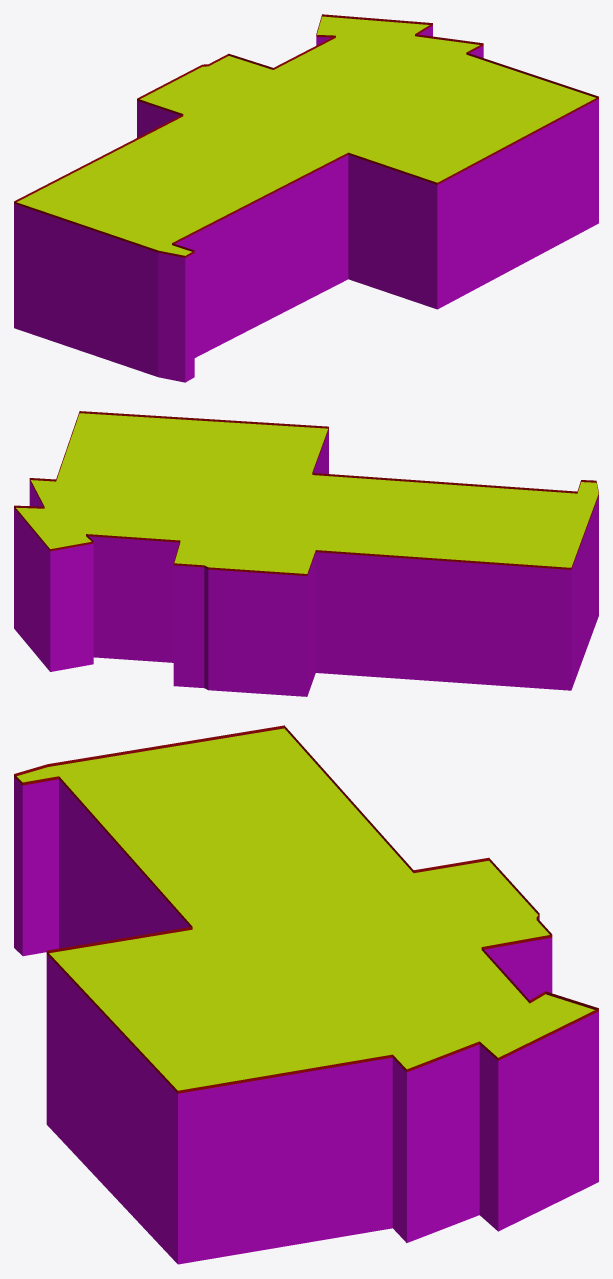
Rendered from svc_102.glb.
3 views of the same model, one above another, from view 1: azimuth 30°, elevation 25°; view 2: azimuth 150°, elevation 25°; view 3: azimuth 270°, elevation 25° (orthographic). The views are drawn at different scales.
Visible parts, largest first — view 1: svc_102; view 2: svc_102; view 3: svc_102.
Boxes of the visible parts, x1,y1,x2,y2 form: svc_102: [14, 14, 598, 382]; svc_102: [14, 411, 598, 696]; svc_102: [14, 725, 598, 1264].
Size of the model in its own units: 91.74 by 20.35 by 62.08.
